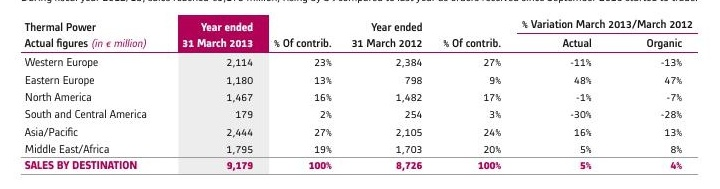table: (0, 0, 720, 189)
